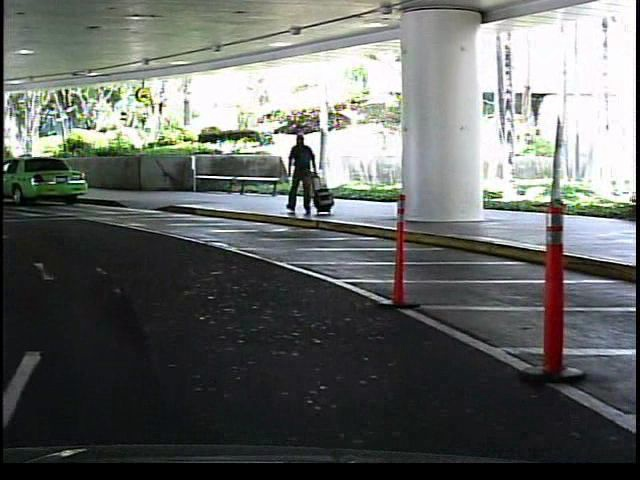person: (283, 126, 322, 221)
